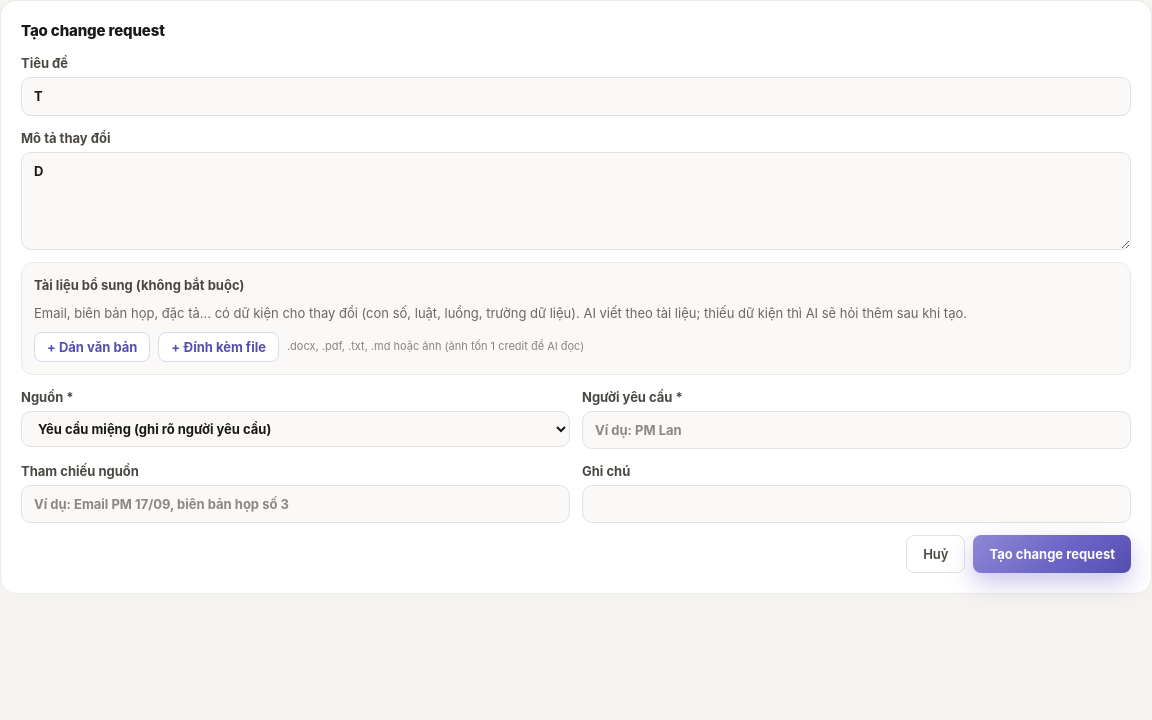
it: ChangeRequestForm — tạo change request (UC-48) › 400 CR_SOURCE_REQUIRED từ BE ⇒ hiện thông điệp BE
The width and height of the screenshot is (1152, 720).
Type "PM Lan" into the field labelled "Người yêu cầu *". click: {"x": 856, "y": 430}
box: [582,411,1131,449]
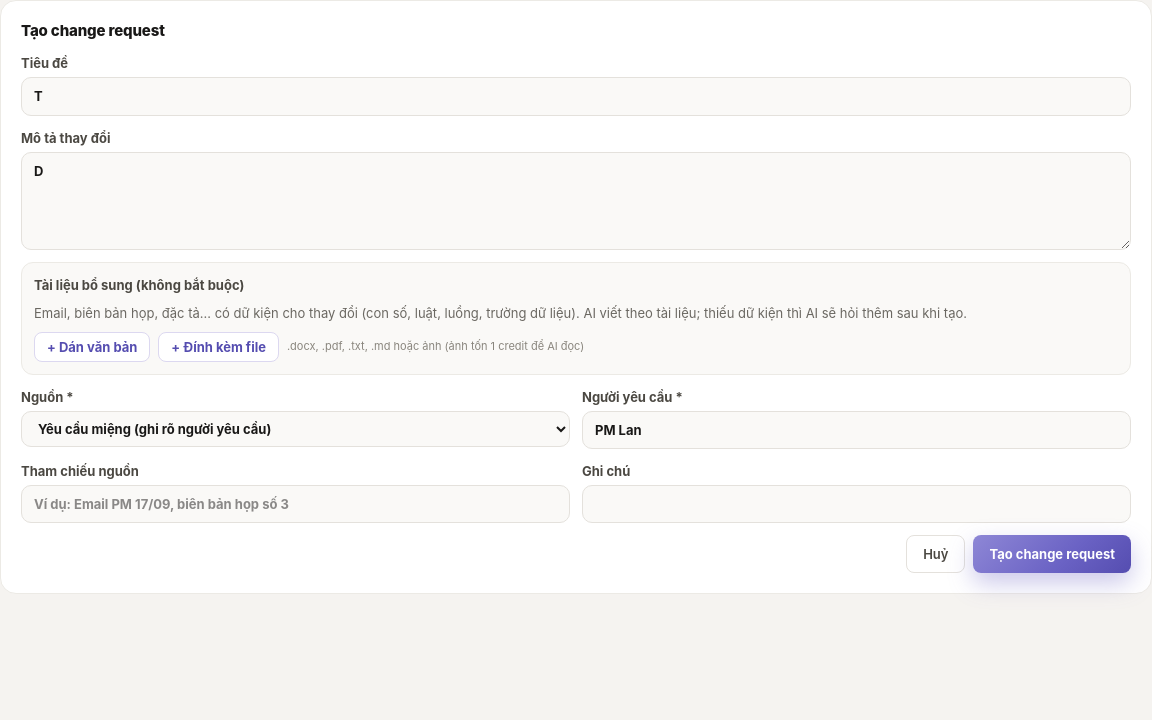
Click the button "Tạo change request". click: {"x": 1052, "y": 554}
box: [974,535,1131,573]
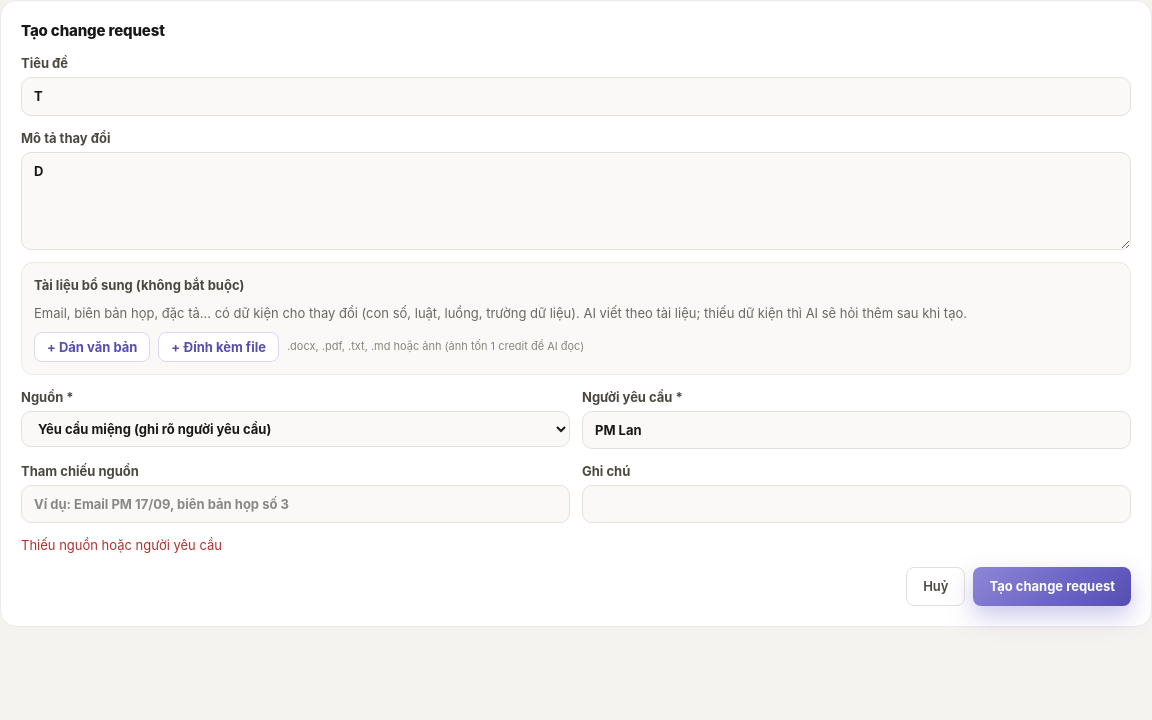
expect the message reads "Thiếu nguồn hoặc người yêu cầu": met, box [21,537,222,553]
